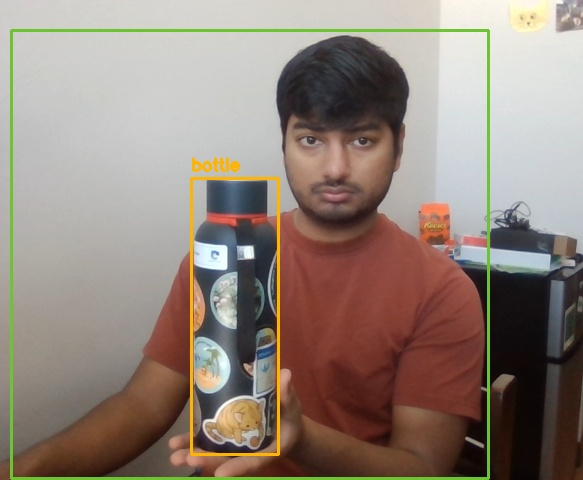bottle: (191, 178, 278, 454)
